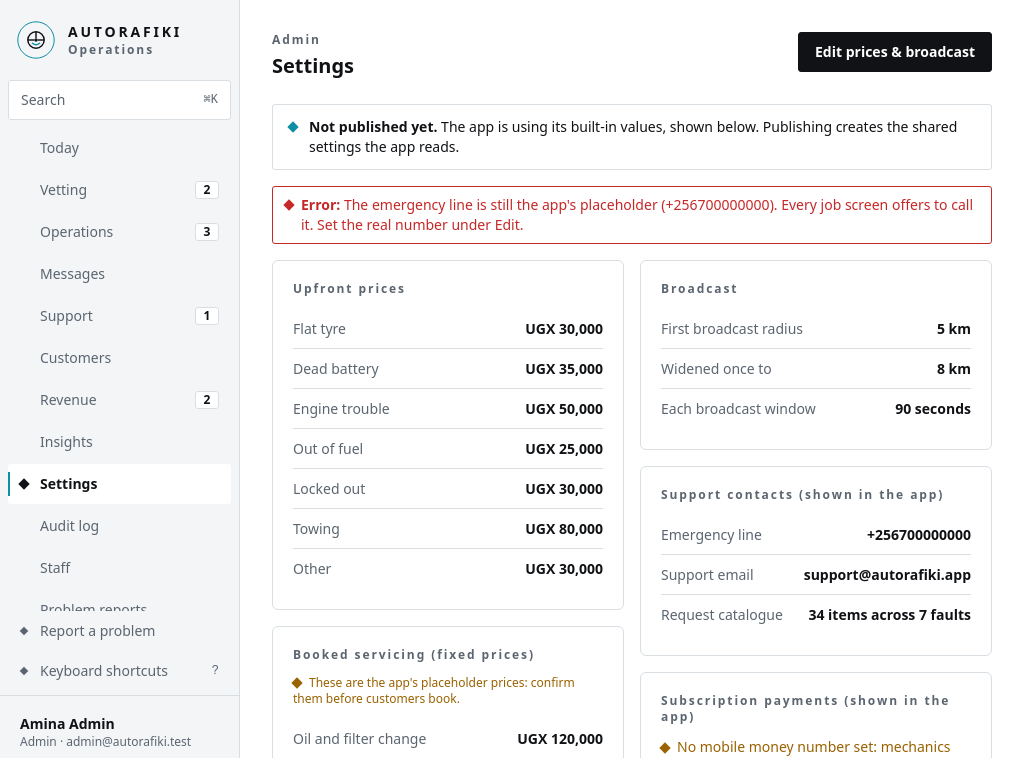
Test: settings › the first publish can keep the current values (it creates the shared settings)
The width and height of the screenshot is (1024, 758).
Click the button "Edit prices & broadcast" at {"x": 895, "y": 52}, box [798, 32, 992, 72]
(page scrolled)
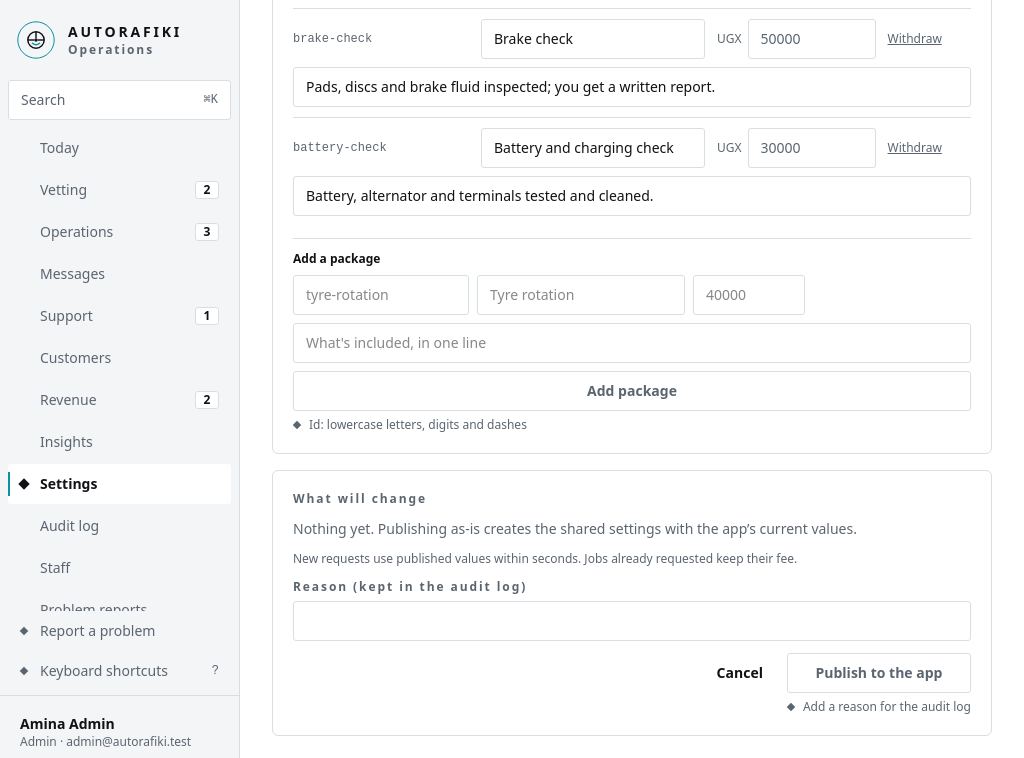
Check: the text "Publishing as-is creates the shared settings" is shown, box [293, 519, 857, 538]
Type "Go live with the app values" into the field labelled "Reason (kept in the audit log)" at {"x": 632, "y": 621}, box [293, 601, 971, 641]
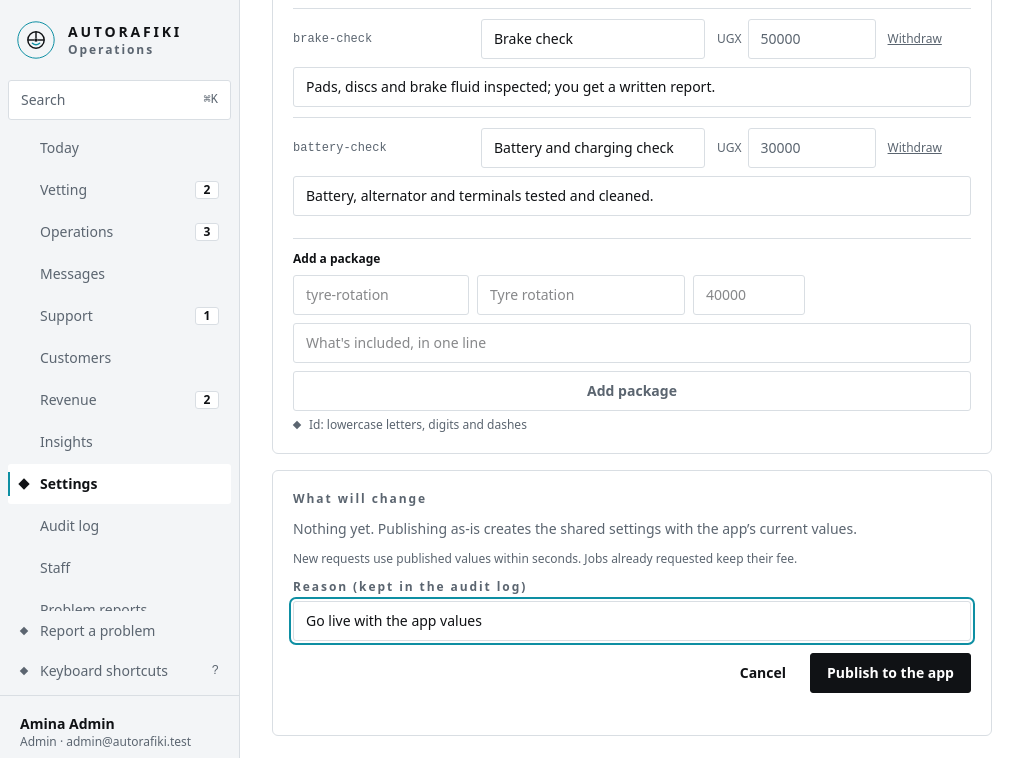
Click the button "Publish to the app" at {"x": 890, "y": 673}, box [810, 653, 971, 693]
(page scrolled)
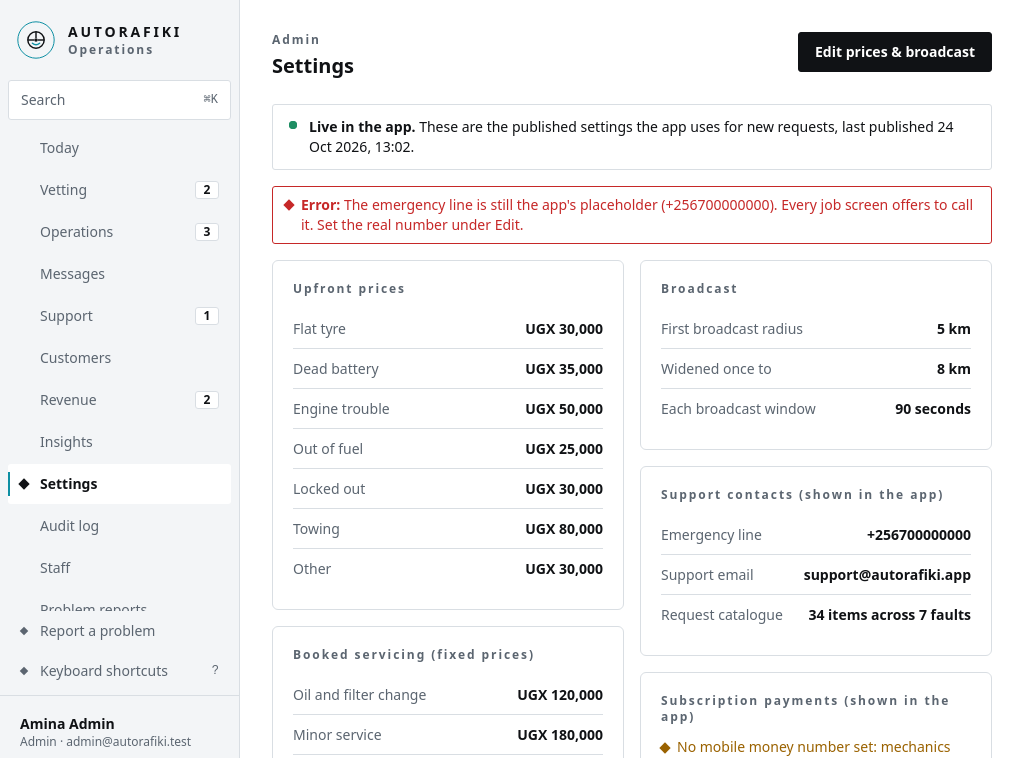
Check: the text "Live in the app." is shown, box [309, 117, 416, 136]
